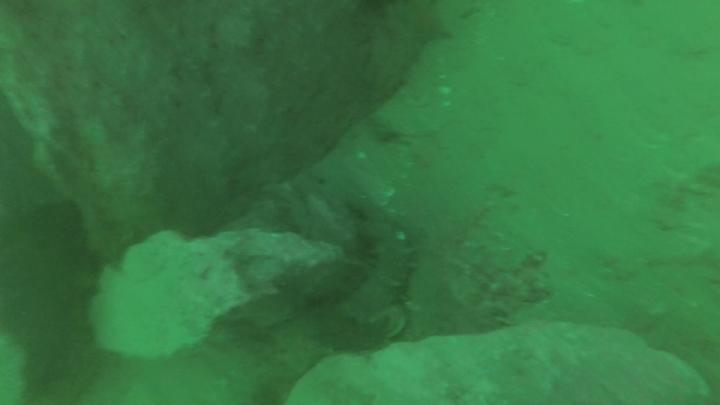holothurian: (354, 236, 415, 312)
